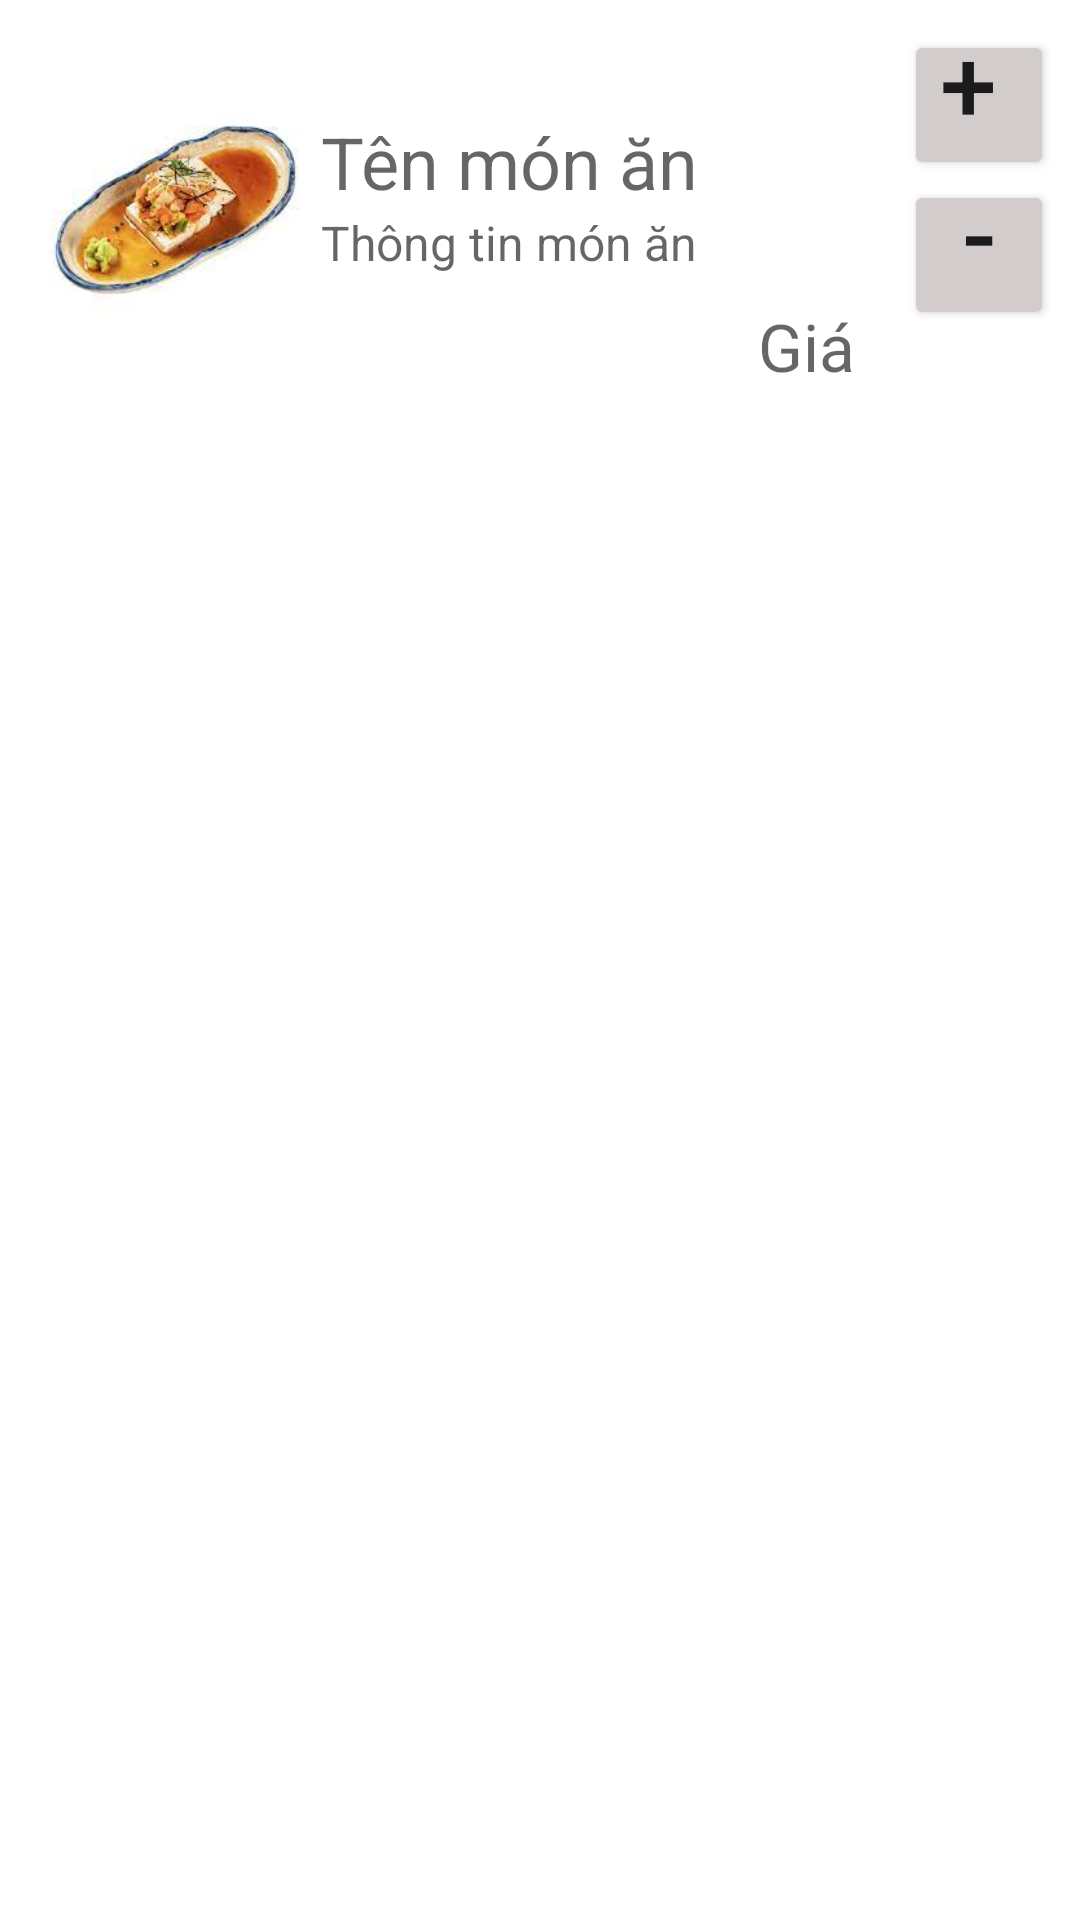

Icons on this 1080 x 1920 Android screen, each with the point to tap as (x=x, y=y):
food: (x=175, y=210)
